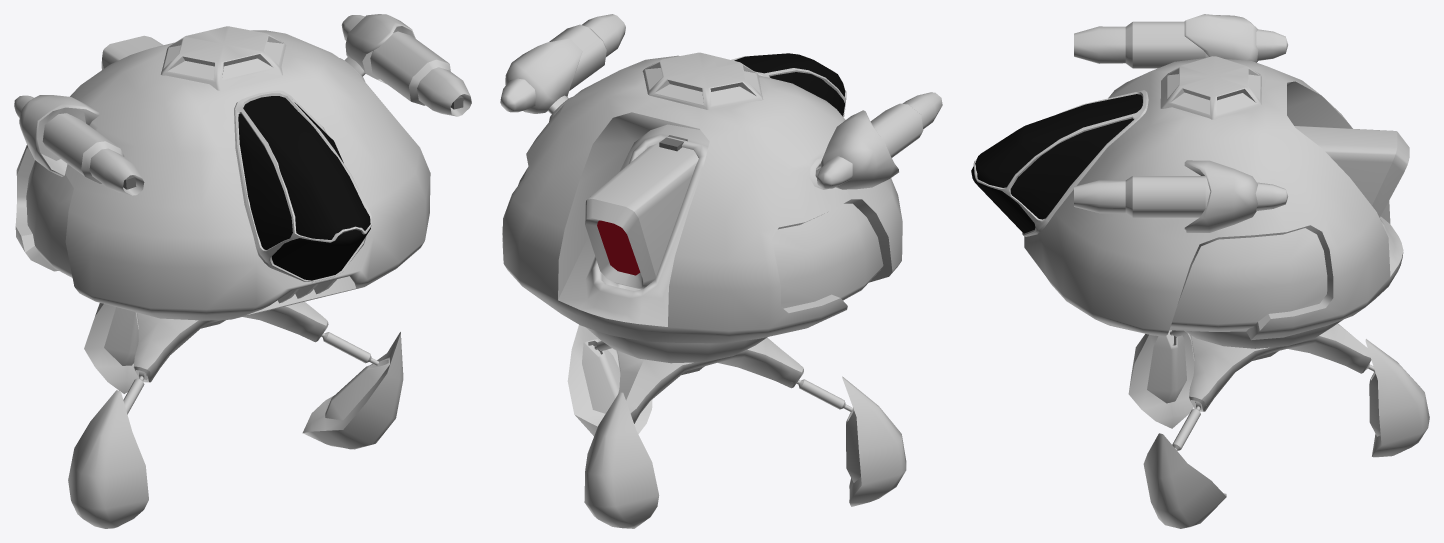
Rendered from evturrsn.fbx.
3 views of the same model, side by side, from view 1: azimuth 30°, elevation 25°; view 2: azimuth 150°, elevation 25°; view 3: azimuth 270°, elevation 25° (orthographic). The views are drawn at different scales.
Visible parts, largest first — view 1: turret_y, cockpit, foot_r, foot_l, head_hex_vent, recoil_l, support, recoil_r, foot_m, Frame, gun_r, gun_l (+2 smaller); view 2: turret_y, engine1, foot_m, foot_r, head_hex_vent, support, gun_l, gun_r, foot_l, mainbody, cockpit, recoil_r (+3 smaller); view 3: turret_y, cockpit, engine1, recoil_l, support, foot_r, head_hex_vent, foot_m, recoil_r, foot_l, gun_l, gun_r (+2 smaller).
Boxes of the visible parts, x1,y1,x2,y2 form: turret_y: (15,30,430,320); cockpit: (238,96,370,280); foot_r: (68,390,148,528); foot_l: (302,332,403,449); head_hex_vent: (161,26,286,91); recoil_l: (370,31,471,116); support: (133,301,328,382); recoil_r: (42,113,144,195); foot_m: (84,303,138,393); Frame: (234,90,371,282); gun_r: (14,95,99,176); gun_l: (341,14,415,84); turret_y: (502,55,902,343); engine1: (585,143,698,289); foot_m: (584,392,659,528); foot_r: (842,376,906,506); head_hex_vent: (642,52,763,109); support: (615,337,803,423); gun_l: (500,38,582,114); gun_r: (815,110,898,189); foot_l: (567,325,652,435); mainbody: (586,327,767,363); cockpit: (734,53,845,116); recoil_r: (870,92,942,157); turret_y: (1024,58,1403,340); cockpit: (971,94,1142,233); engine1: (1294,126,1409,217); recoil_l: (1074,176,1210,217); support: (1187,323,1371,411); foot_r: (1128,330,1194,428); head_hex_vent: (1160,56,1261,119); foot_m: (1365,339,1429,457); recoil_r: (1074,21,1208,68); foot_l: (1143,433,1226,528); gun_l: (1184,160,1287,232); gun_r: (1184,14,1287,62).
Bounding box in the file's own units: 4.15 × 4.48 × 4.51.
